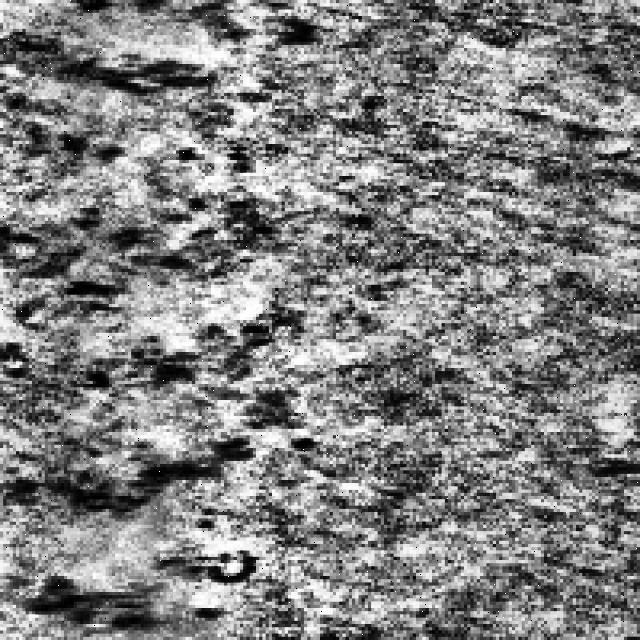Crazing: (22, 192, 276, 630), (19, 0, 307, 154)
